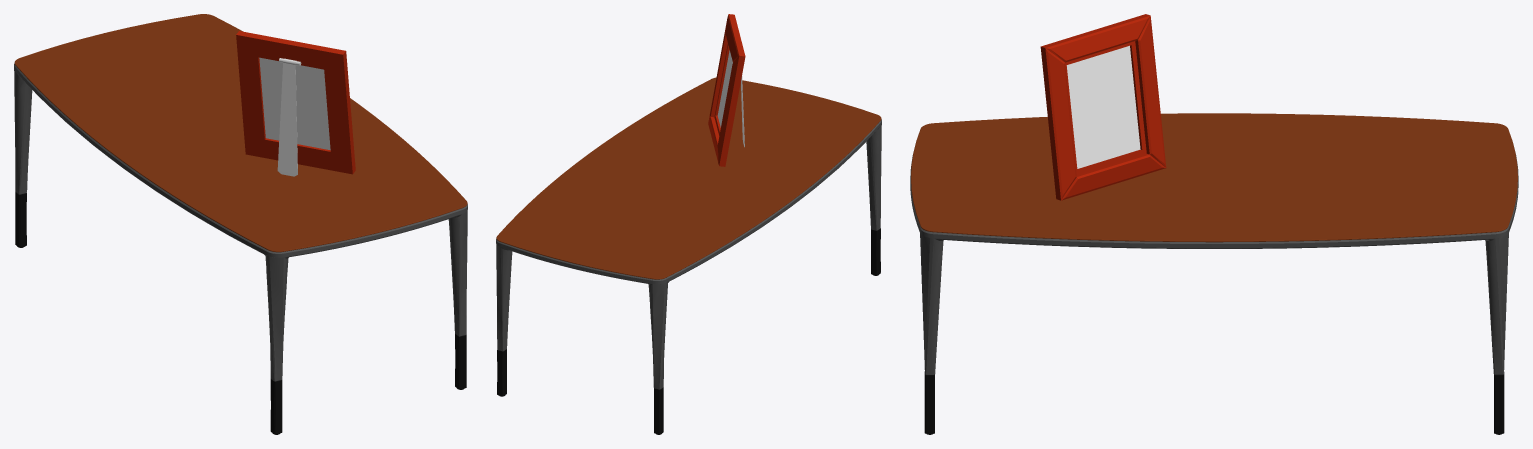
Rendered from homeTable.FBX.
3 views of the same model, side by side, from view 1: azimuth 30°, elevation 25°; view 2: azimuth 150°, elevation 25°; view 3: azimuth 270°, elevation 25° (orthographic). The views are drawn at different scales.
Parts seen in each view (by area): view 1: sobre, ramka01, cuerpo, Shape01, (#3713_002, (#3713_003, (#3713_004; view 2: sobre, cuerpo, ramka01, (#3713_003, (#3713_002, (#37136) L, Shape01; view 3: sobre, ramka01, cuerpo, Shape01, (#37136) L, (#3713_004.
Part boxes in pixels (x1,y1,x2,y2): sobre: (14,14,467,252); ramka01: (236,31,355,176); cuerpo: (14,63,467,381); Shape01: (259,57,330,150); (#3713_002: (270,379,282,433); (#3713_003: (15,192,26,246); (#3713_004: (455,334,466,388); sobre: (496,77,881,279); cuerpo: (496,119,881,389); ramka01: (708,14,745,166); (#3713_003: (654,387,663,433); (#3713_002: (871,228,880,274); (#37136) L: (497,349,506,395); Shape01: (717,50,732,127); sobre: (911,113,1517,242); ramka01: (1040,14,1166,200); cuerpo: (910,154,1518,374); Shape01: (1066,45,1140,168); (#37136) L: (1494,372,1504,432); (#3713_004: (924,371,934,432).
Size of the model in its own units: 21.75 by 27.79 by 43.52.
